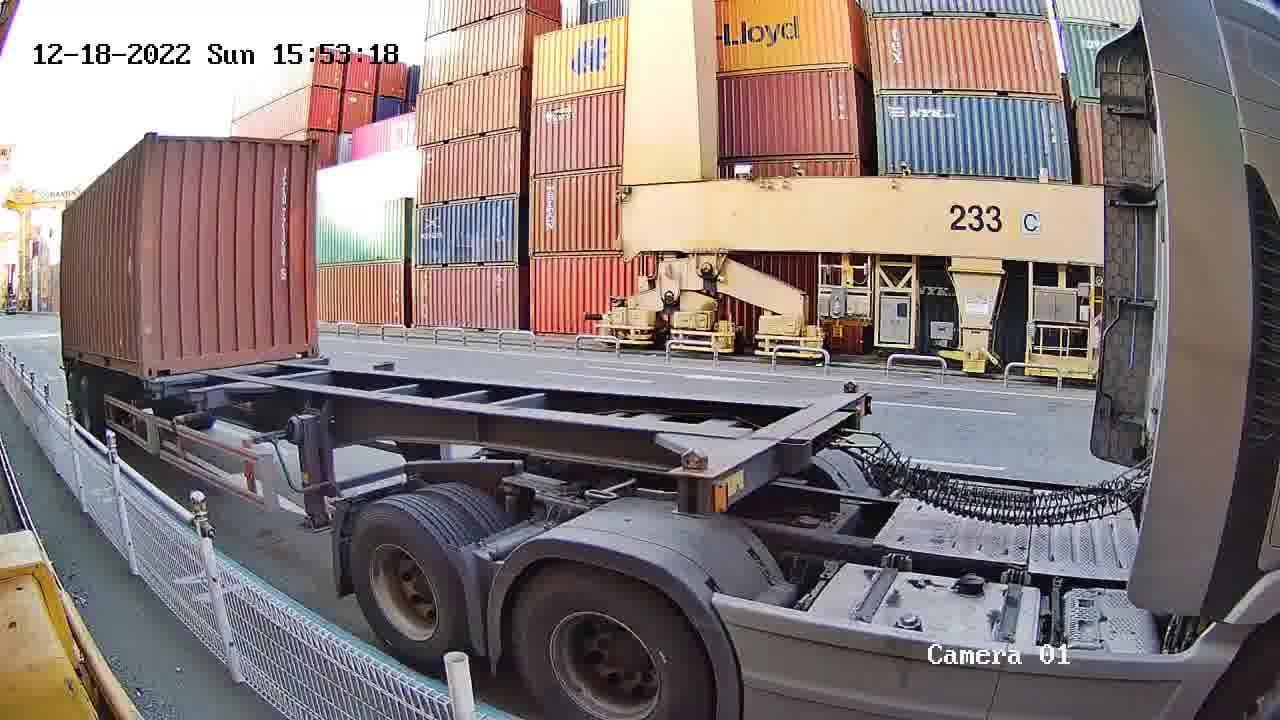Chassis: (184, 359, 393, 399), (144, 355, 332, 389)
Hole_L: (143, 341, 179, 376)
Hole_R: (284, 325, 320, 358)
Tire: (514, 564, 711, 718), (351, 508, 462, 657)
